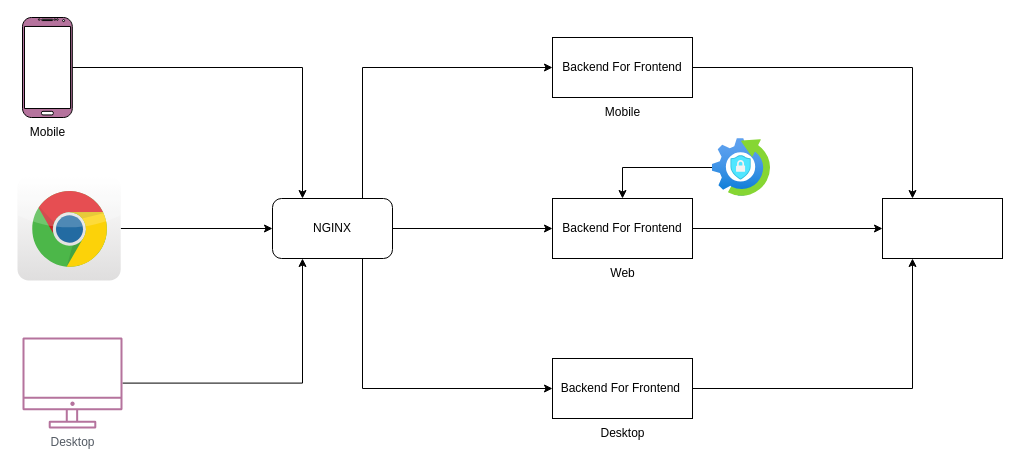
This 1020x467 diagram has some shape labels left out. Each missing label, with the centre of its shape:
"Backend" belongs at point (942, 228).
"CORS Settings" belongs at point (741, 167).
"Web (Browser)" belongs at point (68, 228).
